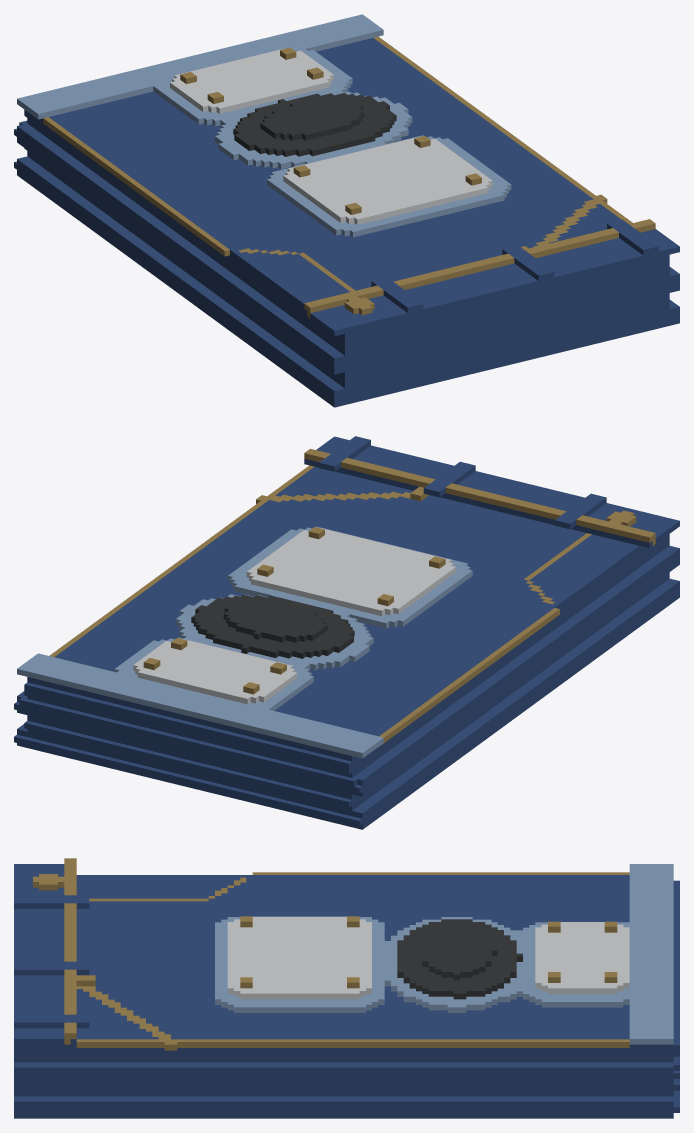
File: jeans_mod.glb
3 views of the same model, one above another, from view 1: azimuth 30°, elevation 25°; view 2: azimuth 150°, elevation 25°; view 3: azimuth 270°, elevation 25° (orthographic). The views are drawn at different scales.
Parts seen in each view (by area): view 1: jeans_mod:compound; view 2: jeans_mod:compound; view 3: jeans_mod:compound.
Part boxes in pixels (x1,y1,x2,y2): jeans_mod:compound: [14, 14, 679, 407]; jeans_mod:compound: [14, 436, 679, 829]; jeans_mod:compound: [14, 858, 679, 1118].
Bounding box in the file's own units: 0.264 × 0.064 × 0.424.
